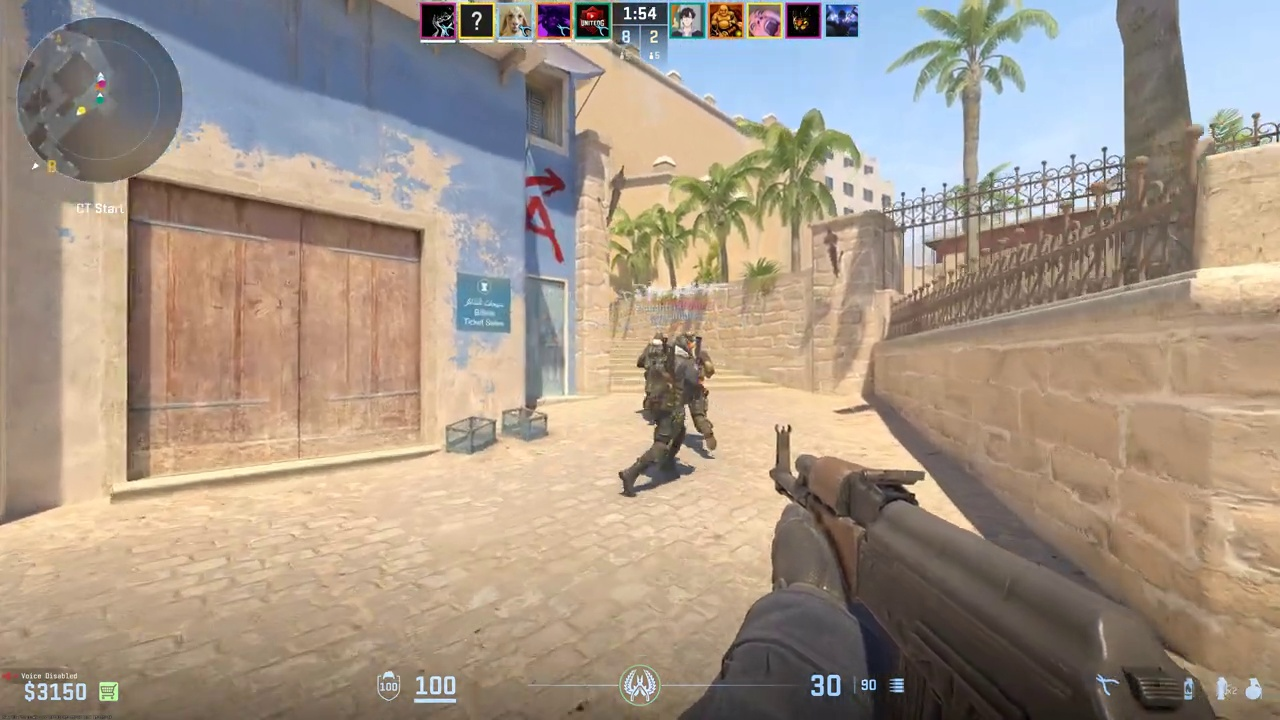CT: (641, 331, 702, 495)
